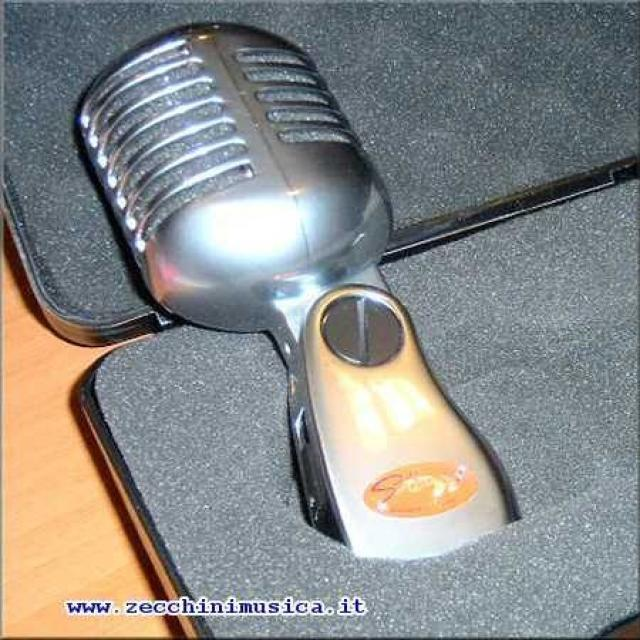microphone: (66, 26, 523, 559)
